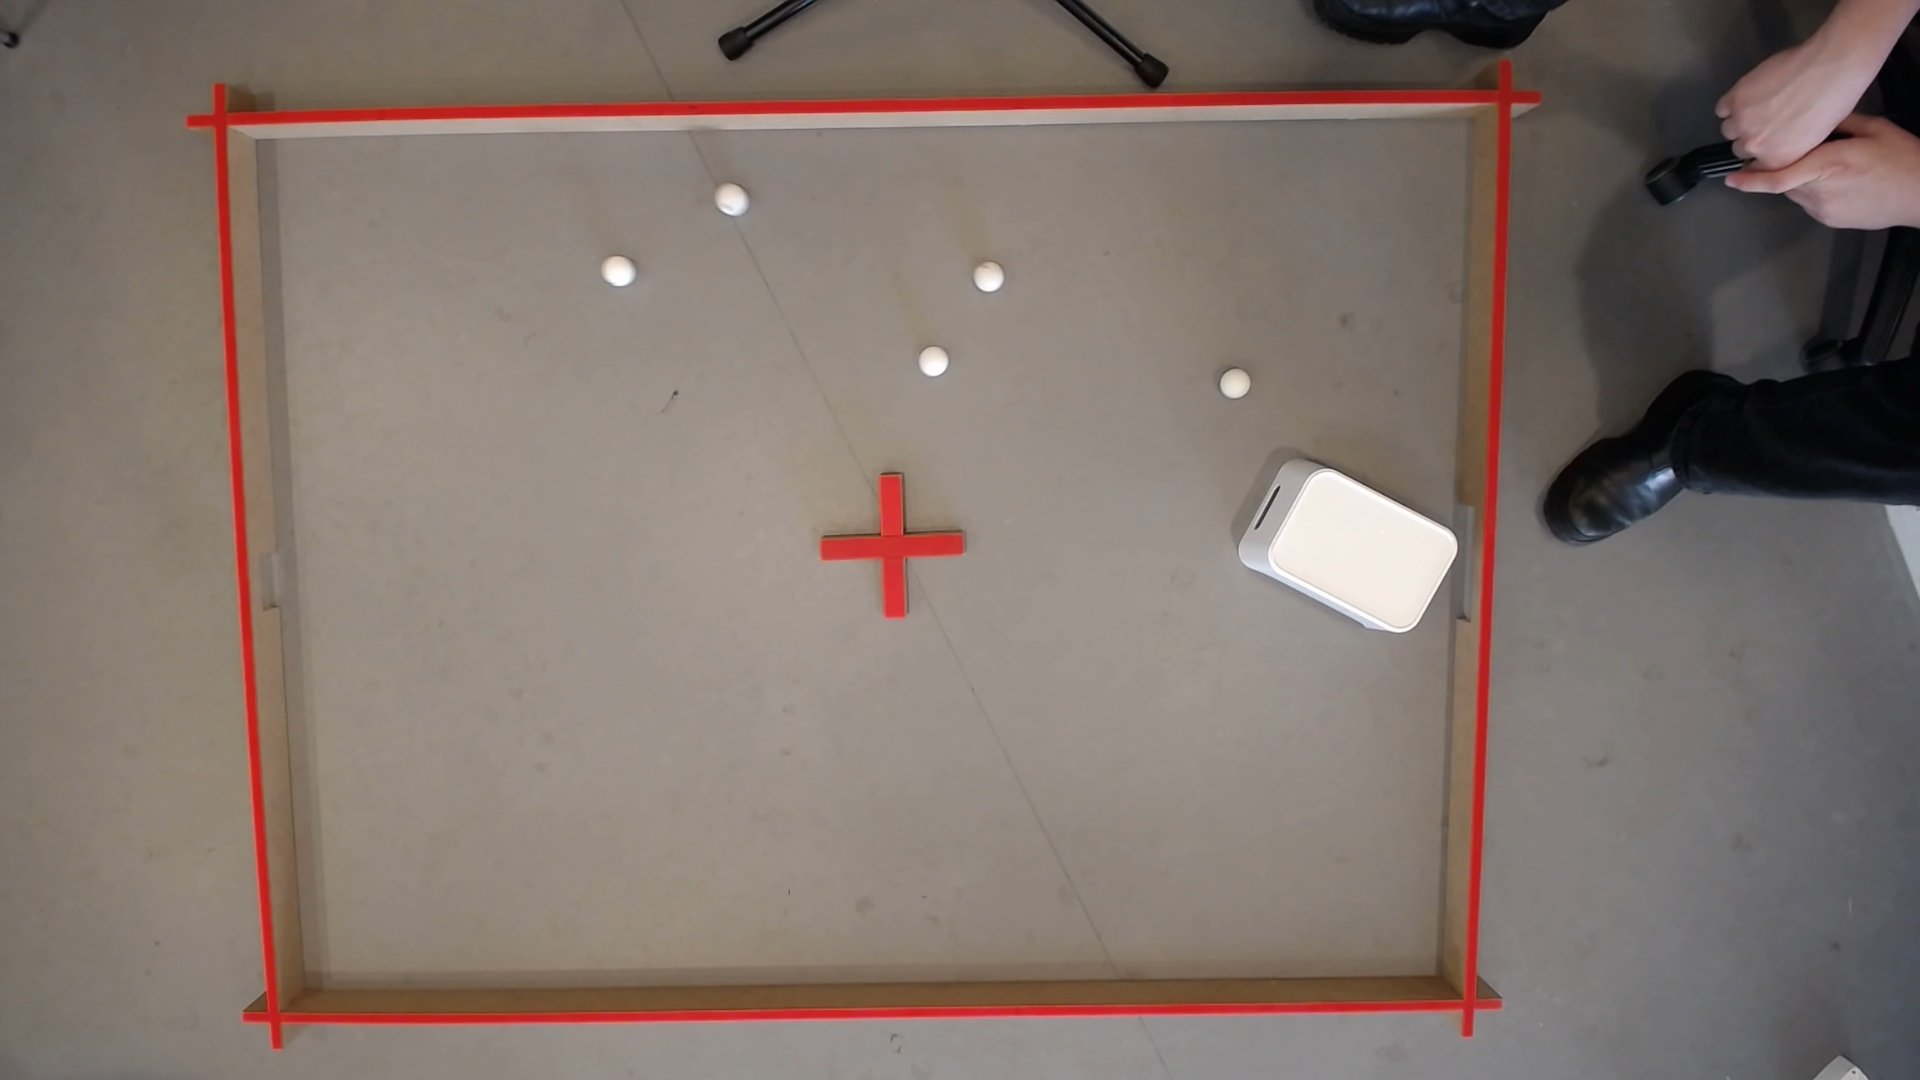balls: (1770, 57, 1875, 167), (597, 252, 637, 291), (914, 343, 951, 380), (712, 183, 749, 219), (972, 262, 1005, 295), (1776, 167, 1818, 191), (1218, 372, 1250, 401), (1821, 179, 1849, 189)
car: (1828, 202, 1847, 212)
